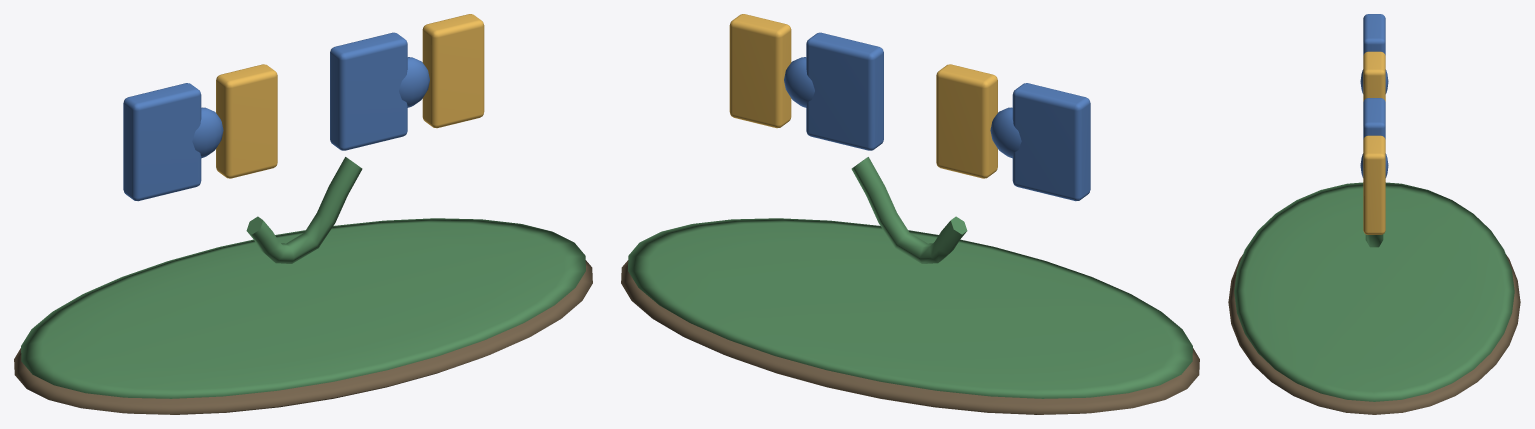
Rendered from complete-second-fitting-together.glb.
The picture shows the model from 3 angles, left to right: view 1: azimuth 30°, elevation 25°; view 2: azimuth 150°, elevation 25°; view 3: azimuth 270°, elevation 25°; orthographic projection. The views are drawn at different scales.
Visible parts, largest first — view 1: complete-second-fitting-together_surface_01, complete-second-fitting-together_surface_02, complete-second-fitting-together_surface_03, complete-second-fitting-together_surface_00; view 2: complete-second-fitting-together_surface_01, complete-second-fitting-together_surface_02, complete-second-fitting-together_surface_03, complete-second-fitting-together_surface_00; view 3: complete-second-fitting-together_surface_01, complete-second-fitting-together_surface_00, complete-second-fitting-together_surface_03, complete-second-fitting-together_surface_02.
Part boxes in pixels (x1,y1,x2,y2): complete-second-fitting-together_surface_01: (21, 157, 585, 398); complete-second-fitting-together_surface_02: (123, 32, 429, 201); complete-second-fitting-together_surface_03: (216, 14, 484, 178); complete-second-fitting-together_surface_00: (14, 260, 592, 414); complete-second-fitting-together_surface_01: (628, 157, 1192, 398); complete-second-fitting-together_surface_02: (784, 32, 1090, 201); complete-second-fitting-together_surface_03: (729, 14, 997, 178); complete-second-fitting-together_surface_00: (621, 260, 1199, 414); complete-second-fitting-together_surface_01: (1234, 182, 1514, 401); complete-second-fitting-together_surface_00: (1228, 254, 1520, 414); complete-second-fitting-together_surface_03: (1363, 51, 1385, 234); complete-second-fitting-together_surface_02: (1360, 14, 1388, 177).
Size of the model in its own units: 4.56 by 2.19 by 2.5.
